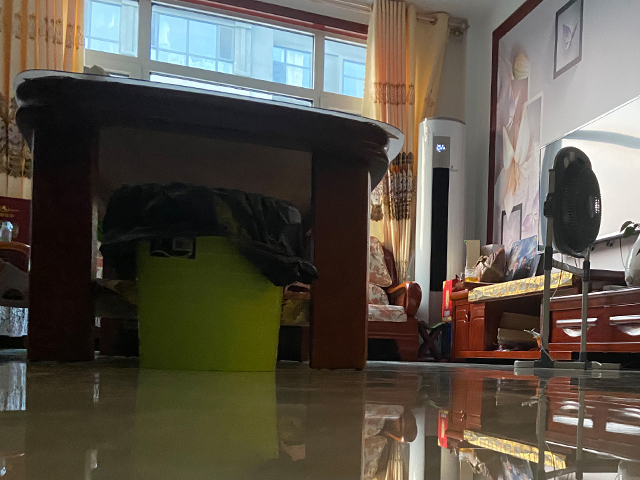cabinet: (448, 267, 640, 365)
curtain: (366, 1, 420, 279)
stool: (417, 320, 450, 365)
table: (11, 65, 406, 373)
trashcan: (106, 181, 306, 374)
